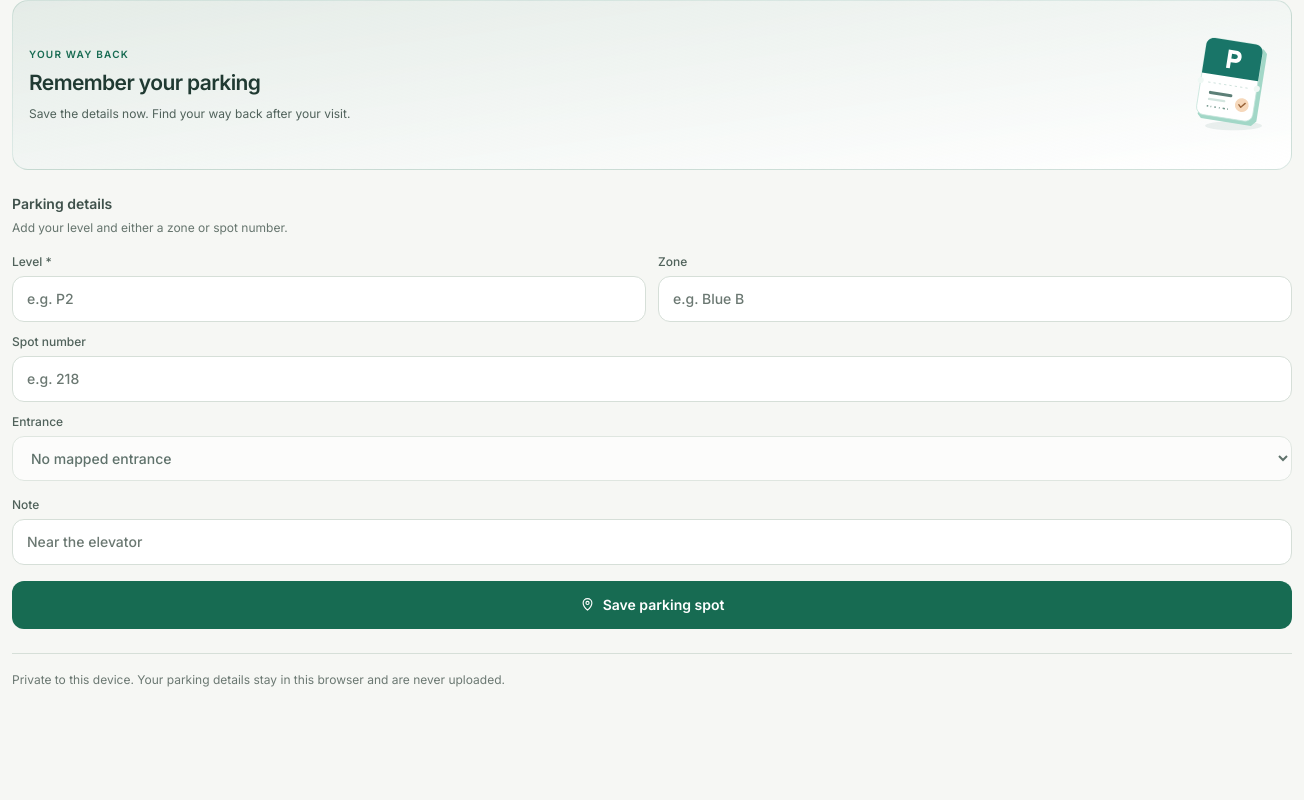
it: ParkingPanel › shows validation instead of saving incomplete details
The image size is (1304, 800).
Click the button with test id "parking-save": (652, 604) left=12, top=580, right=1292, bottom=628
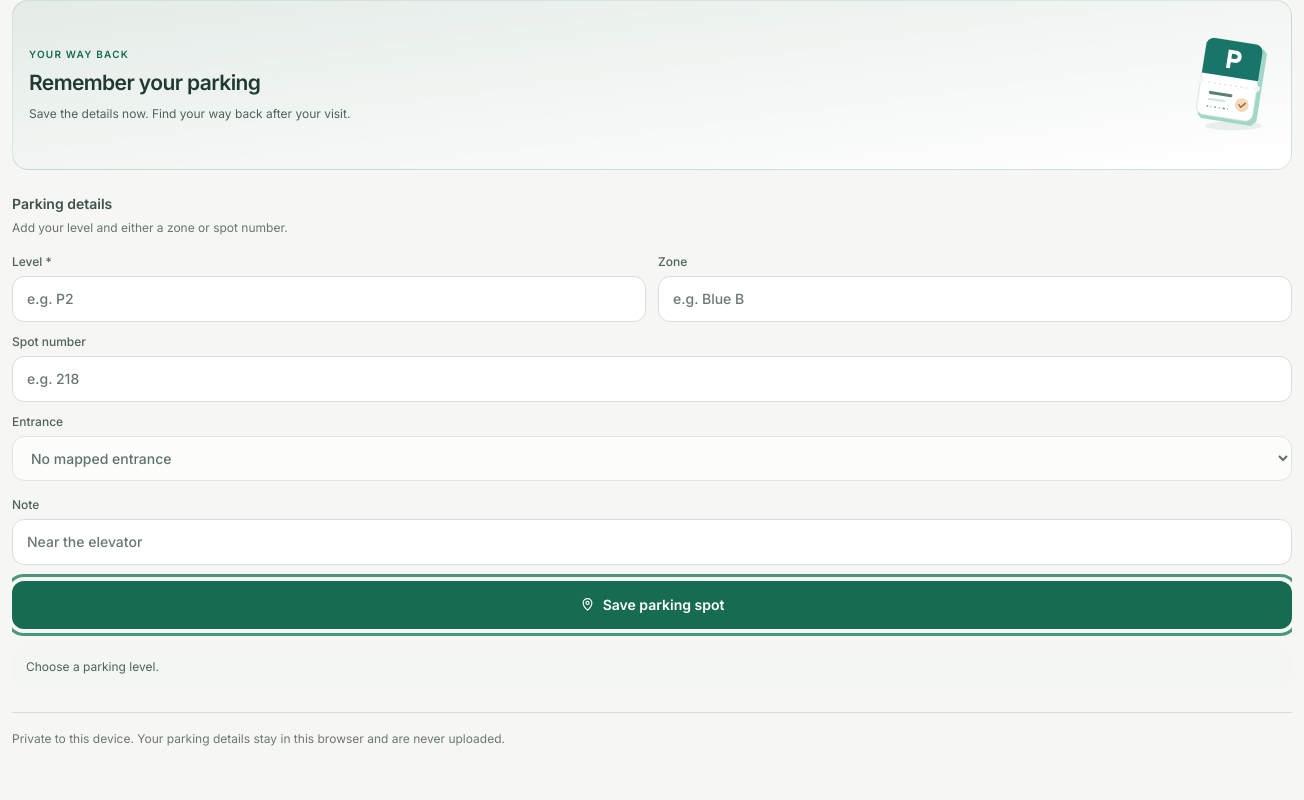
expect the message shows "Choose a parking level": met, box left=26, top=658, right=159, bottom=674
